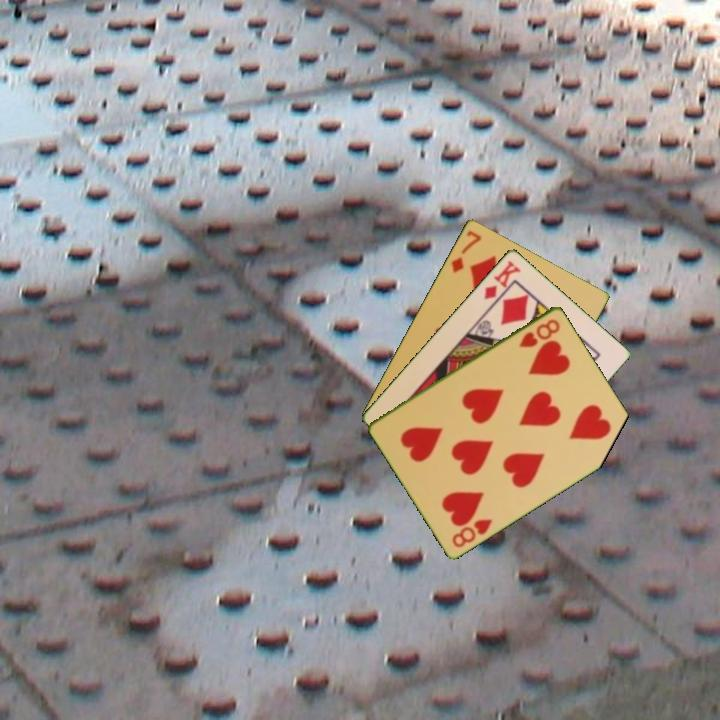7d: (447, 227, 484, 276)
8h: (515, 315, 563, 350), (448, 515, 495, 550)
Kd: (480, 256, 524, 302)
